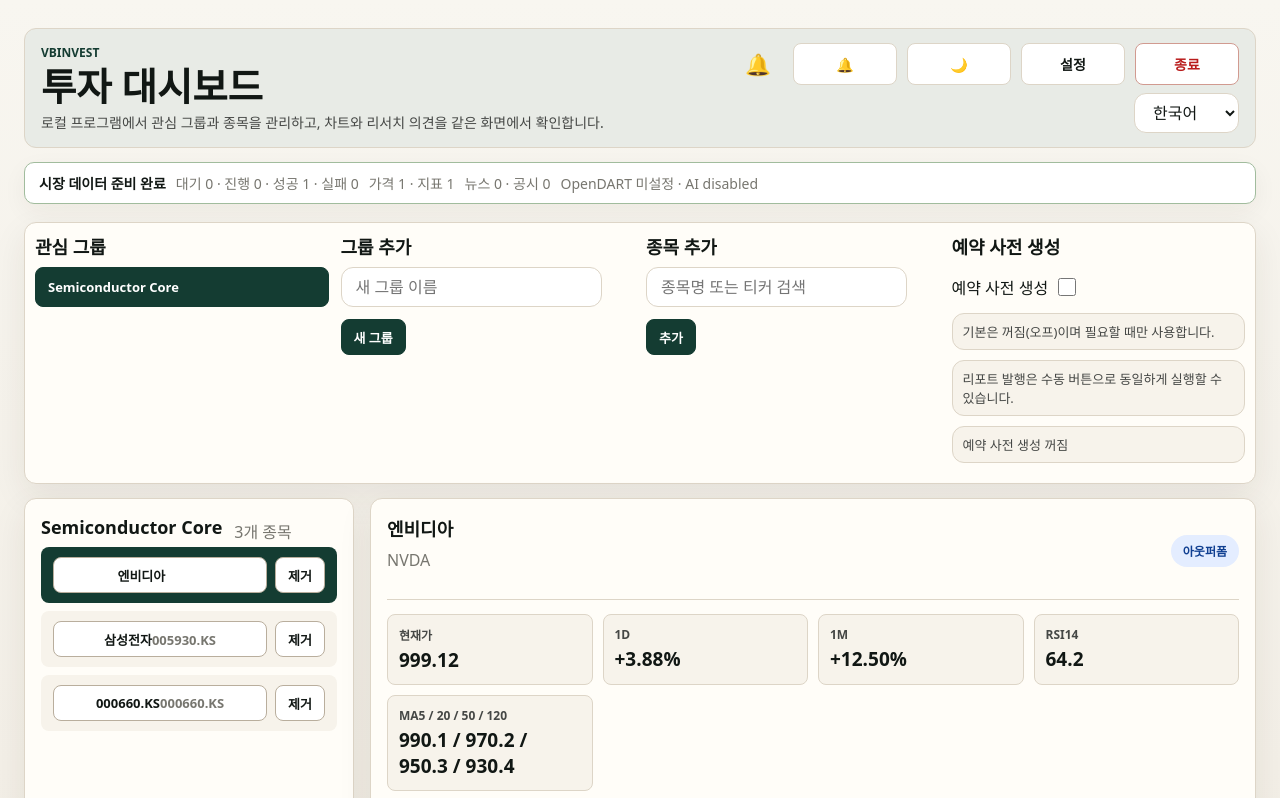
Scenario: WatchlistDashboard › reloads chart data for the selected group after a validated symbol is added
expect the button "새 그룹" is enabled: met, box [340, 319, 406, 355]
Type "QA Persist" into the field labelled "새 그룹 이름".
click(471, 287); type("QA Persist")  # box [340, 267, 602, 307]
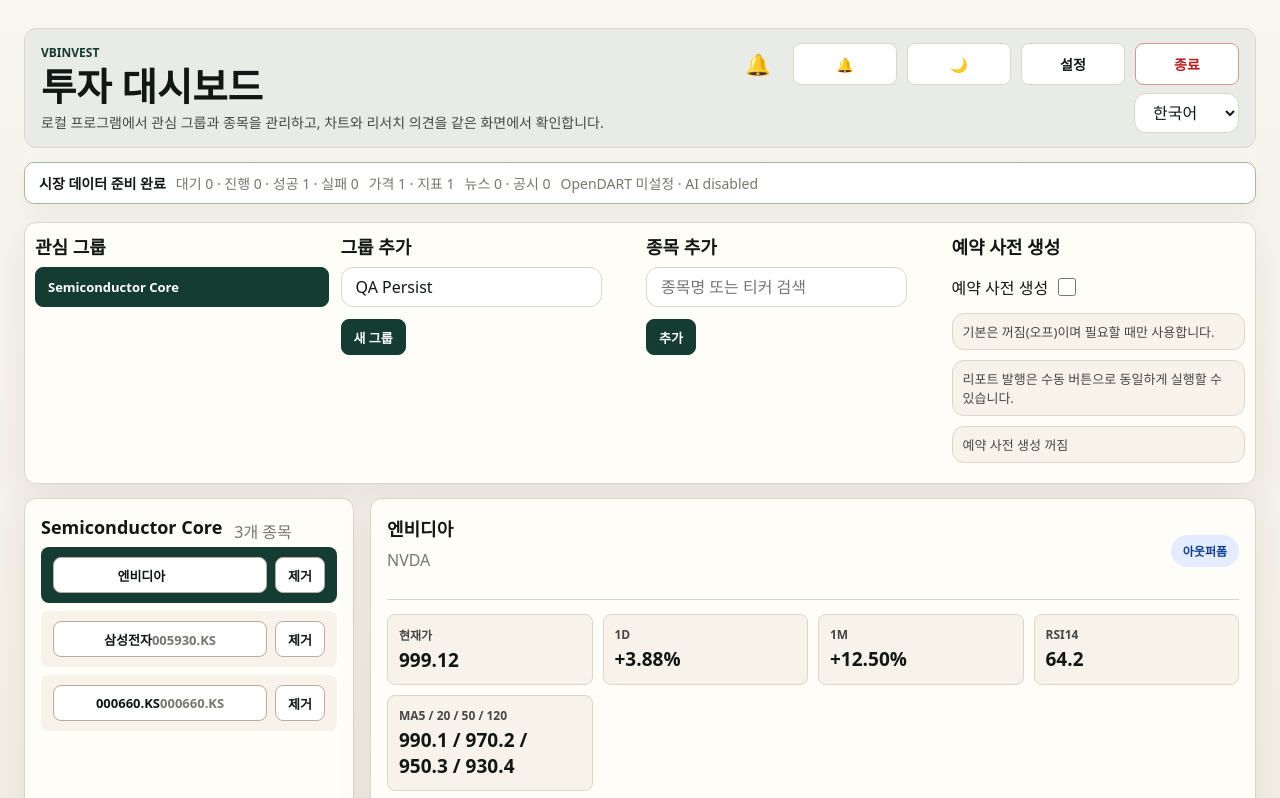
Click the button "새 그룹".
click(373, 337)  # box [340, 319, 406, 355]
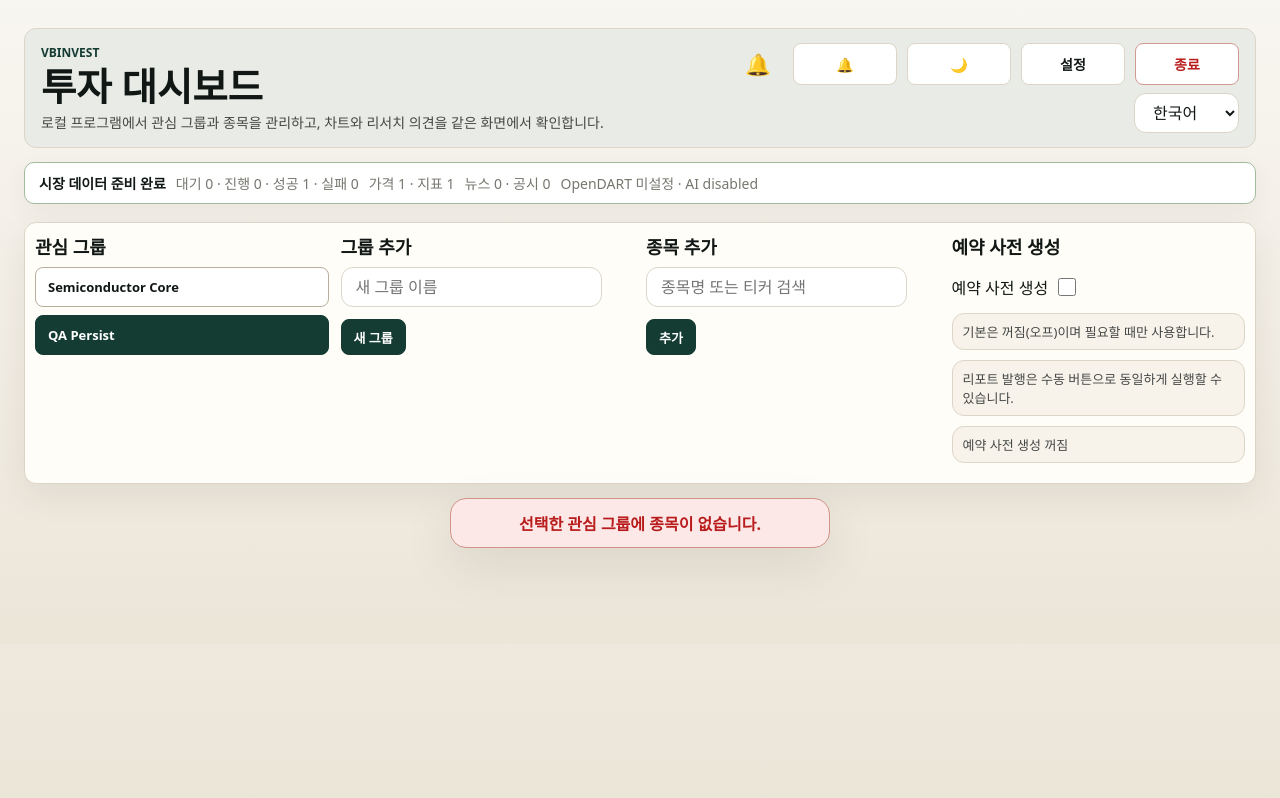
expect the button "QA Persist" is shown: met, box [35, 315, 328, 355]
Type "AAPL" into the field named "새 종목 심볼".
click(776, 287); type("AAPL")  # box [646, 267, 907, 307]
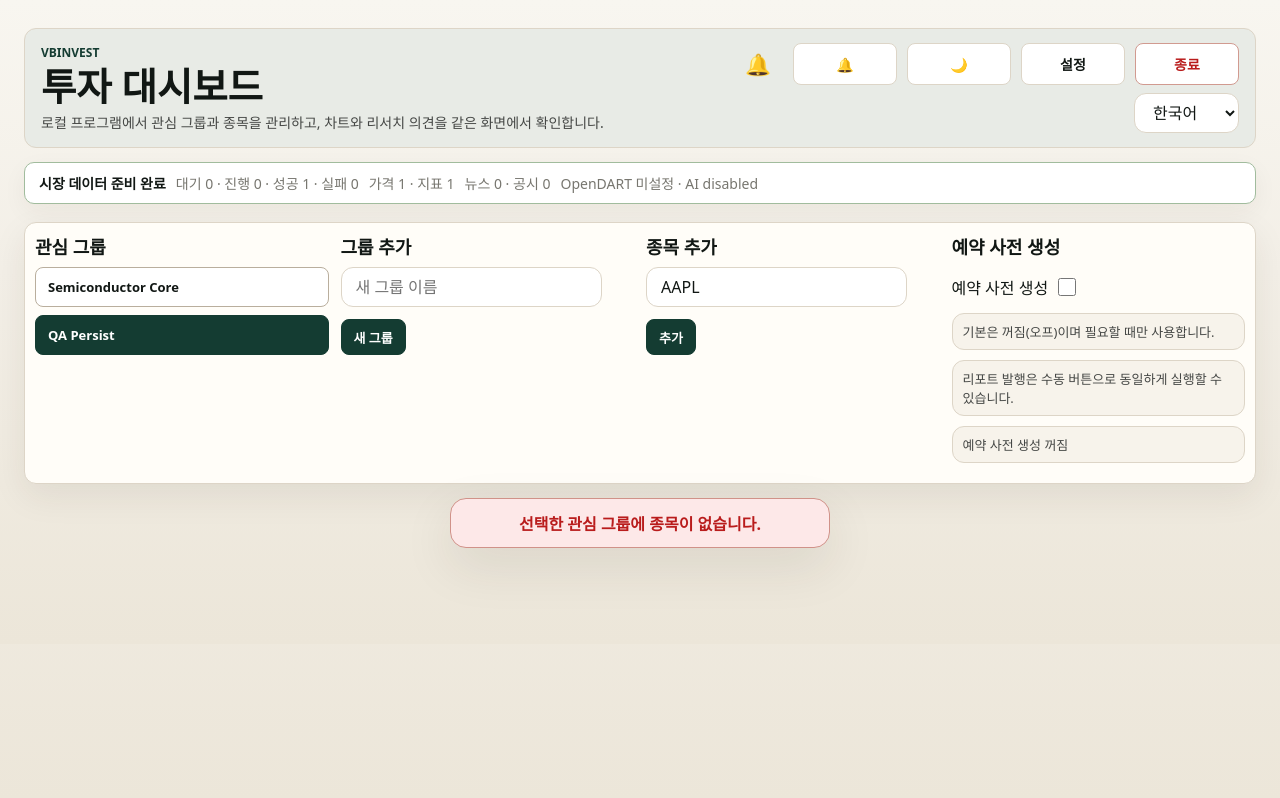
Click the button "추가".
click(671, 337)  # box [646, 319, 696, 355]
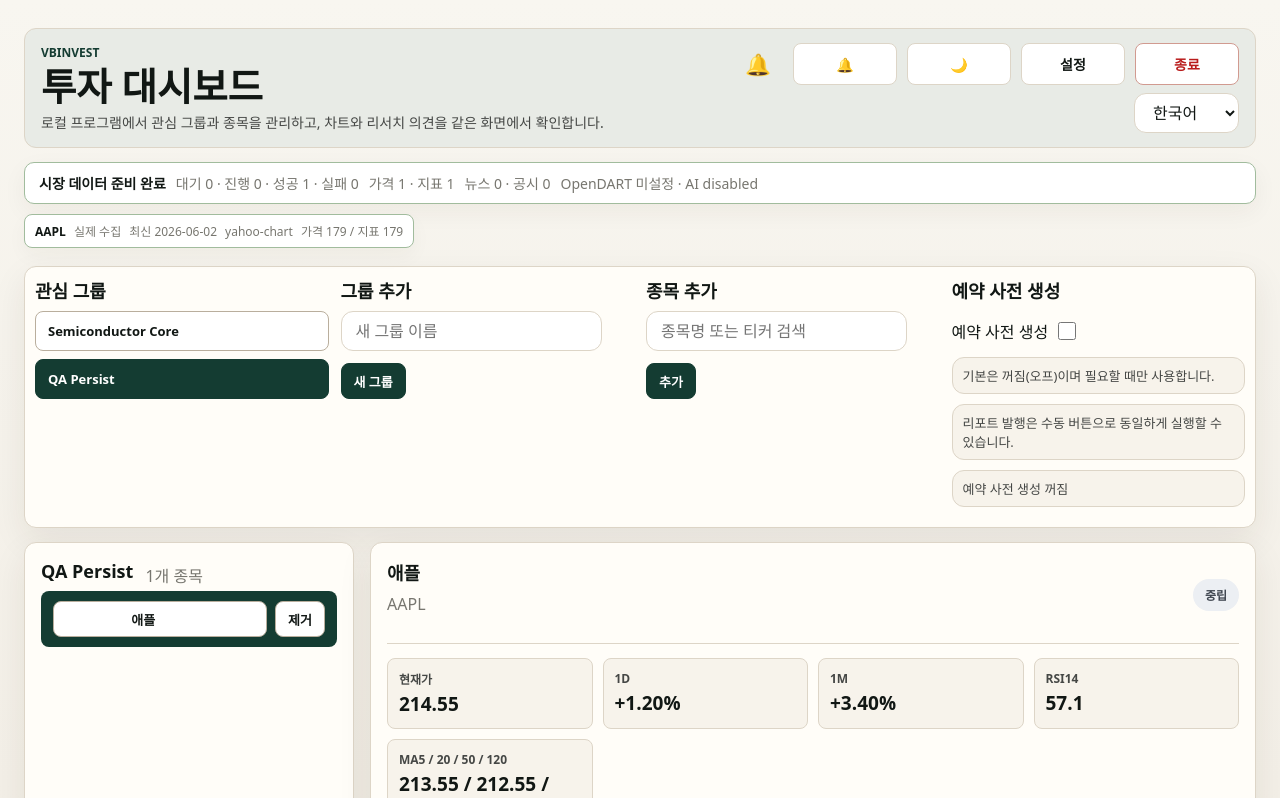
expect the heading "애플" is shown: met, box [387, 559, 426, 585]
expect the text "214.55" is shown: met, box [399, 691, 459, 717]
expect the element with test id "collection-status" shows "AAPL": met, box [35, 222, 66, 240]
